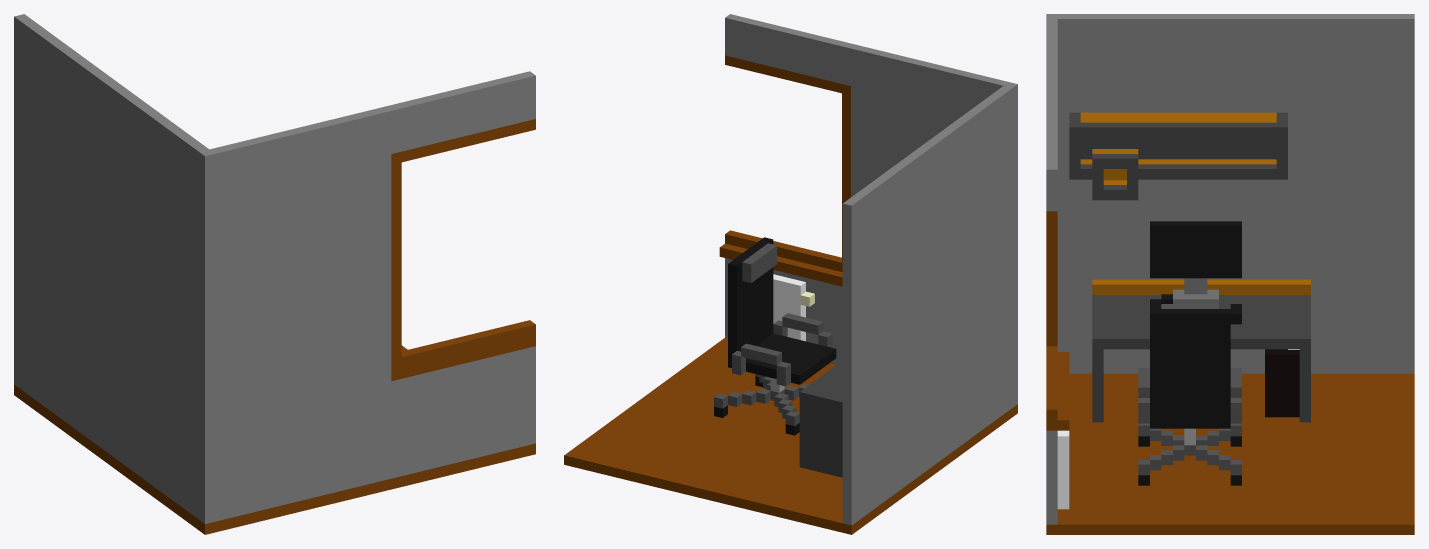
The model's file is luuqe-room.glb.
3 views of the same model, side by side, from view 1: azimuth 30°, elevation 25°; view 2: azimuth 150°, elevation 25°; view 3: azimuth 270°, elevation 25° (orthographic). The views are drawn at different scales.
Visible parts, largest first — view 1: luuqe; view 2: luuqe; view 3: luuqe.
Part boxes in pixels (<box>): luuqe: <box>14,14,535,534</box>; luuqe: <box>564,14,1017,534</box>; luuqe: <box>1046,14,1414,534</box>.
Size of the model in its own units: 3.2 by 3.5 by 3.2.
1 material, 1 textured.
